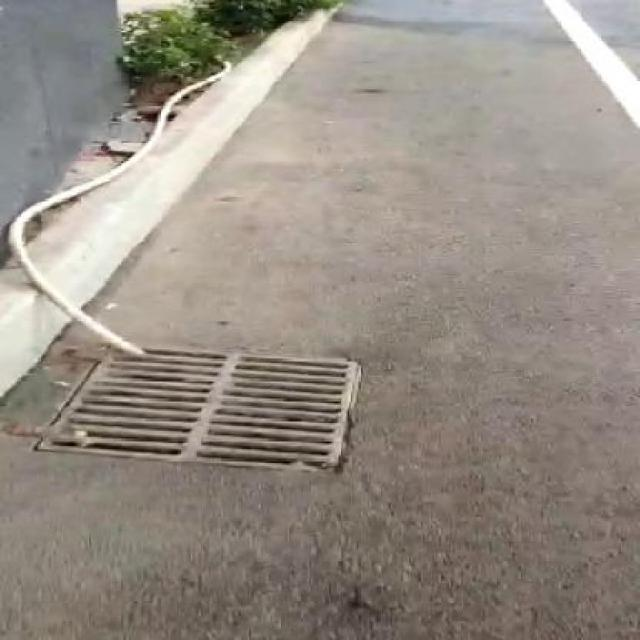Manhole: (22, 338, 364, 466)
